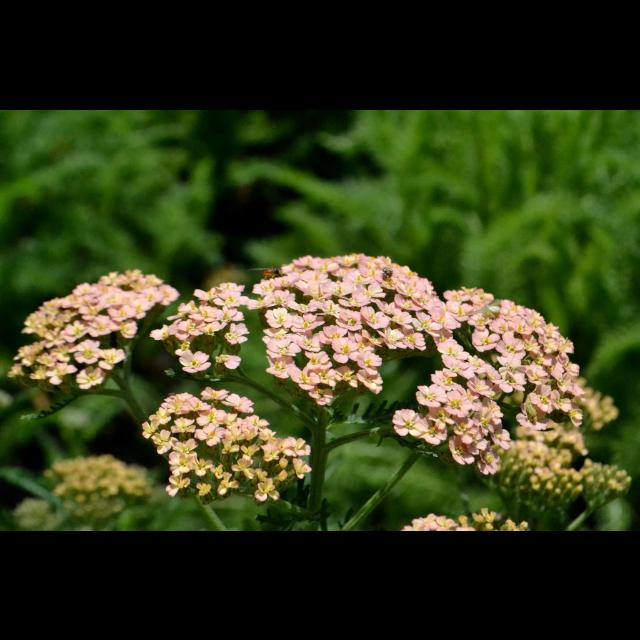Flower: (418, 284, 586, 476), (249, 251, 419, 404), (7, 267, 175, 389), (142, 386, 310, 502), (152, 281, 246, 373), (400, 512, 472, 530), (393, 409, 425, 433)
